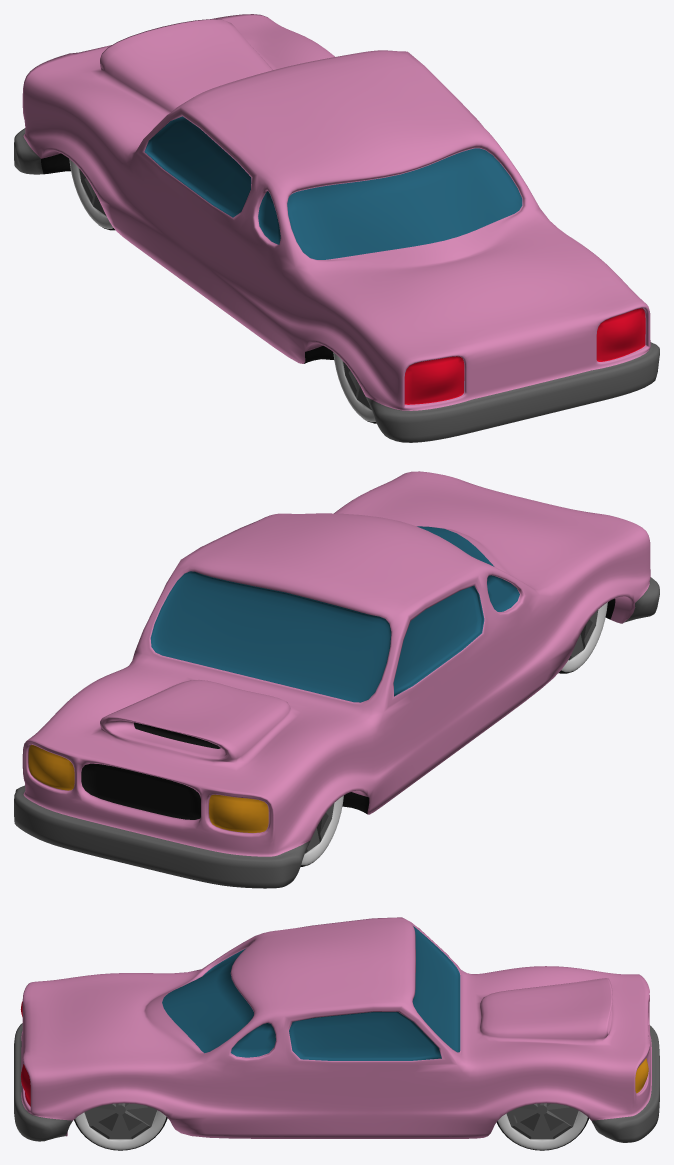
3 views of the same model, one above another, from view 1: azimuth 30°, elevation 25°; view 2: azimuth 150°, elevation 25°; view 3: azimuth 270°, elevation 25° (orthographic). The views are drawn at different scales.
Visible parts, largest first — view 1: Pinky; view 2: Pinky; view 3: Pinky.
Boxes of the visible parts, <box> form: Pinky: <box>14,14,659,442</box>; Pinky: <box>14,471,659,888</box>; Pinky: <box>14,917,659,1150</box>.
Size of the model in its own units: 177 by 119 by 438.
